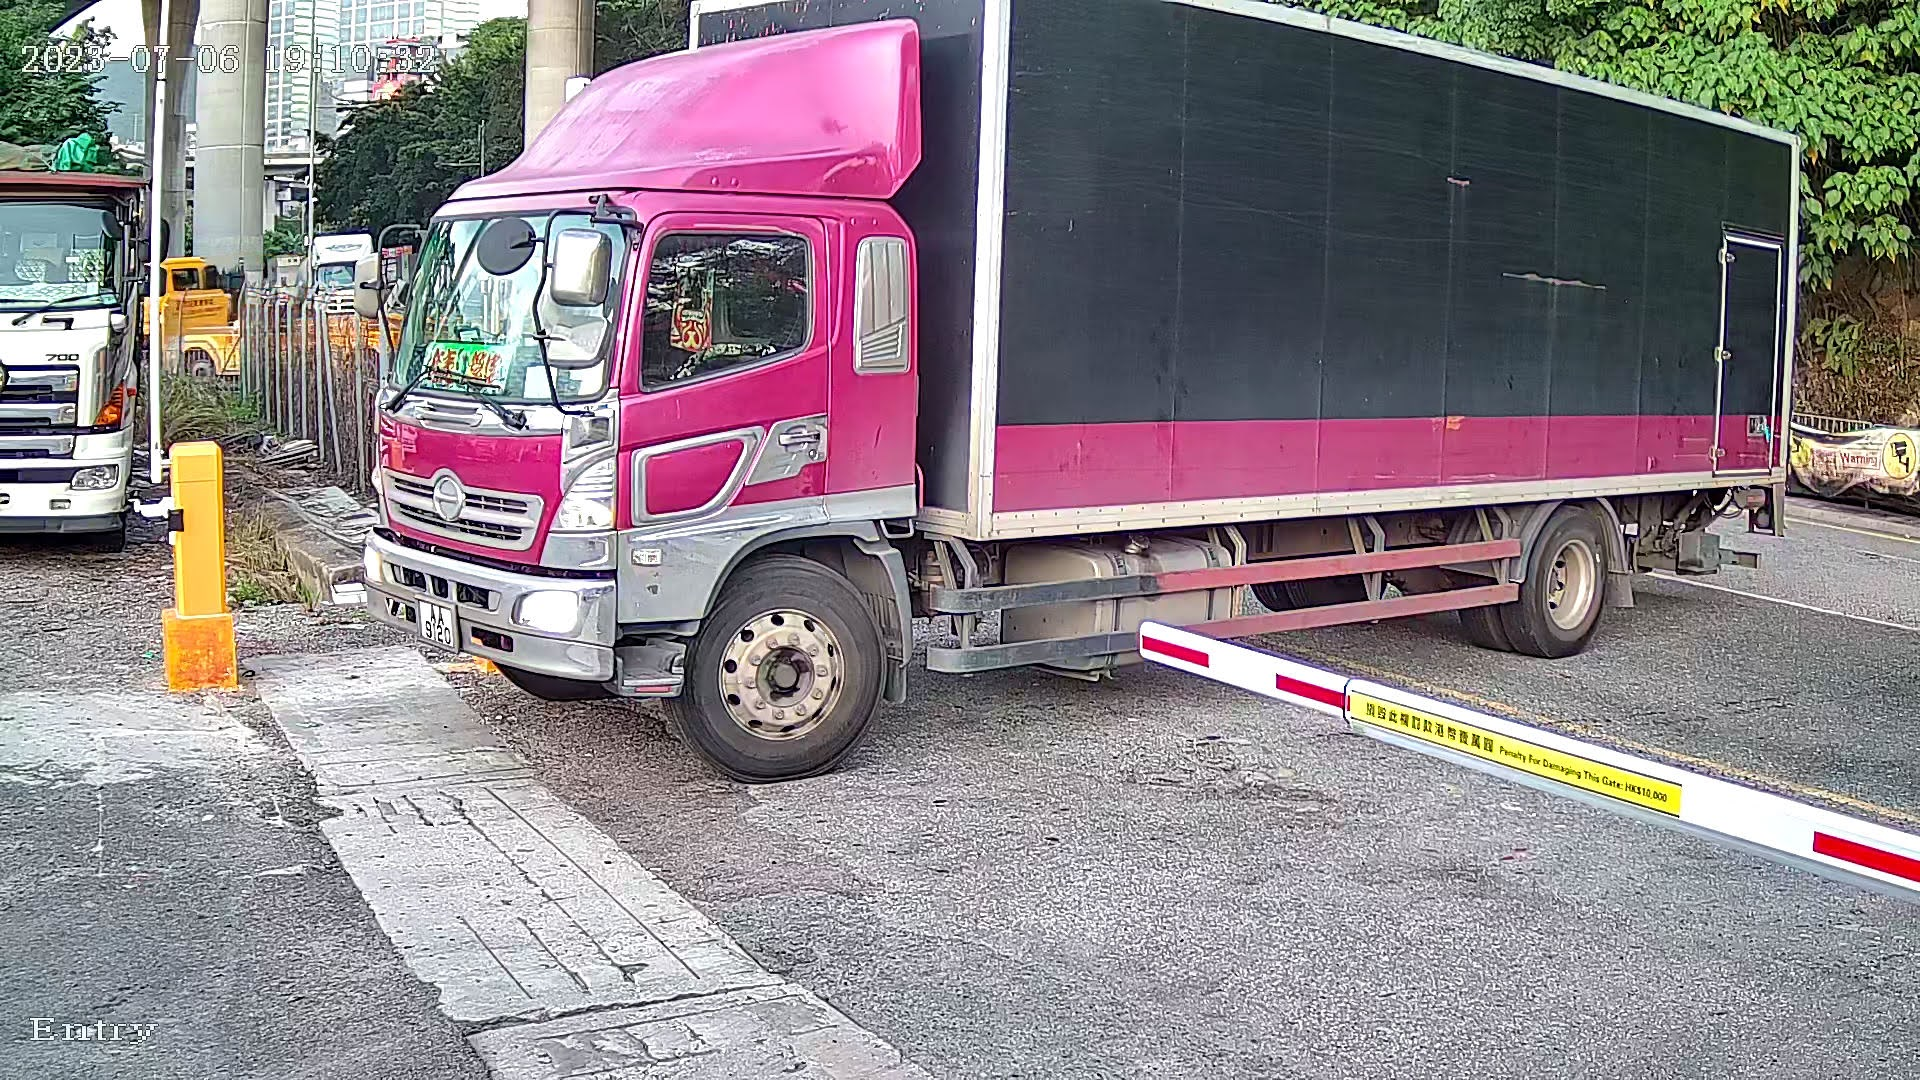truck: (313, 1, 1799, 802)
